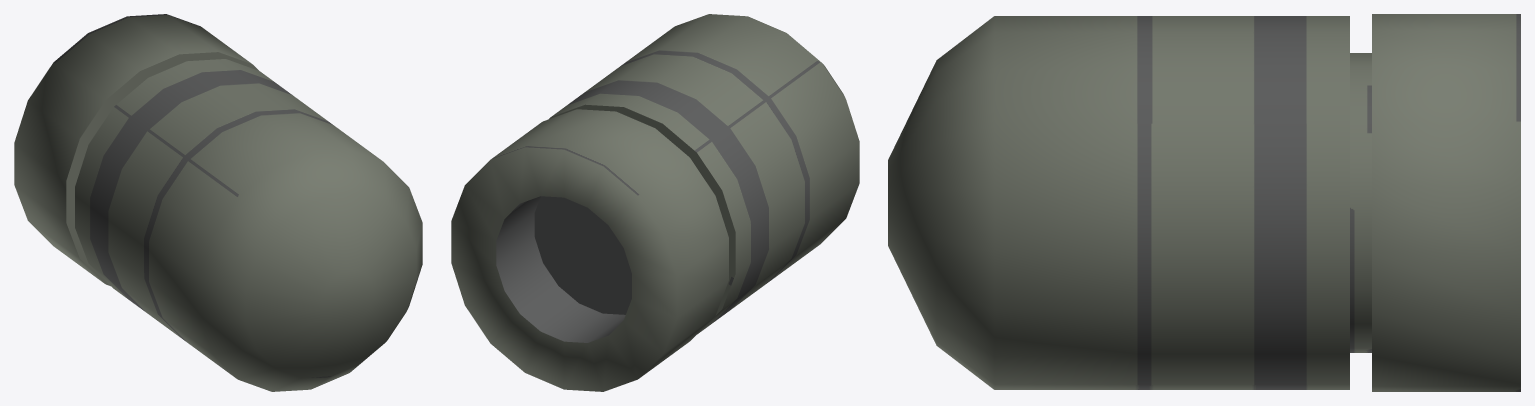
Rendered from fbxRMORMissile.fbx.
The picture shows the model from 3 angles, left to right: view 1: azimuth 30°, elevation 25°; view 2: azimuth 150°, elevation 25°; view 3: azimuth 270°, elevation 25°; orthographic projection. The views are drawn at different scales.
Visible parts, largest first — view 1: Cylinder; view 2: Cylinder; view 3: Cylinder.
Boxes of the visible parts, box(x1,y1,x2,y2) form: Cylinder: box(14, 14, 422, 391); Cylinder: box(451, 14, 859, 391); Cylinder: box(888, 14, 1520, 391).
Size of the model in its own units: 0.5769 by 0.5858 by 0.977.
